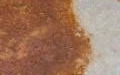Corrosion: (1, 1, 93, 75)
